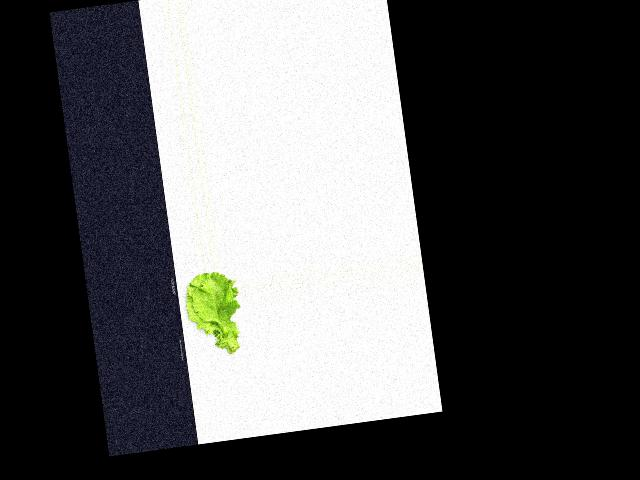lettuce: (177, 268, 246, 358)
